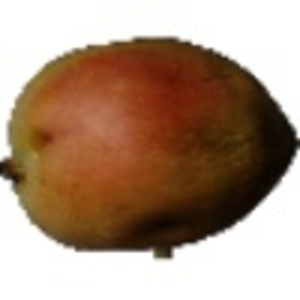mamão: (10, 28, 297, 251)
